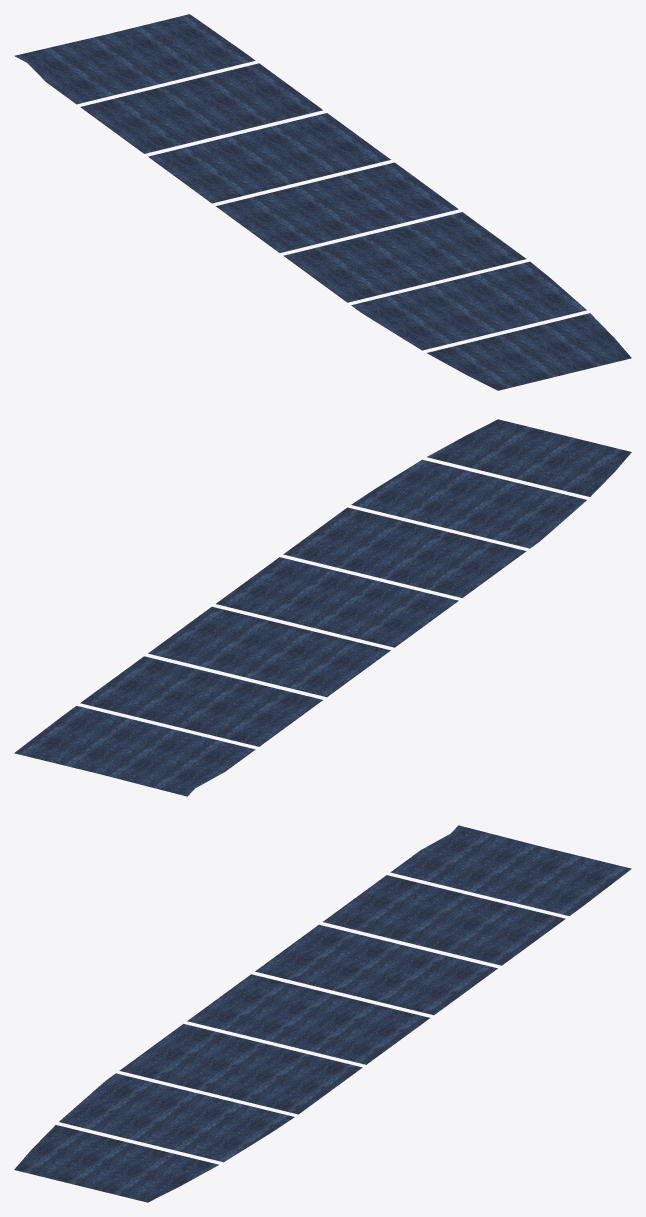
Rendered from plane_wreckage_carpet.dae.
3 views of the same model, one above another, from view 1: azimuth 30°, elevation 25°; view 2: azimuth 150°, elevation 25°; view 3: azimuth 330°, elevation 25° (orthographic).
Visible parts, largest first — view 1: plane_wreckage_carpet; view 2: plane_wreckage_carpet; view 3: plane_wreckage_carpet.
Boxes of the visible parts, x1=… form: plane_wreckage_carpet: x1=14, y1=14, x2=631, y2=390; plane_wreckage_carpet: x1=14, y1=419, x2=631, y2=796; plane_wreckage_carpet: x1=14, y1=825, x2=631, y2=1202.
Bounding box in the file's own units: 344 × 1.53e-05 × 1543.
